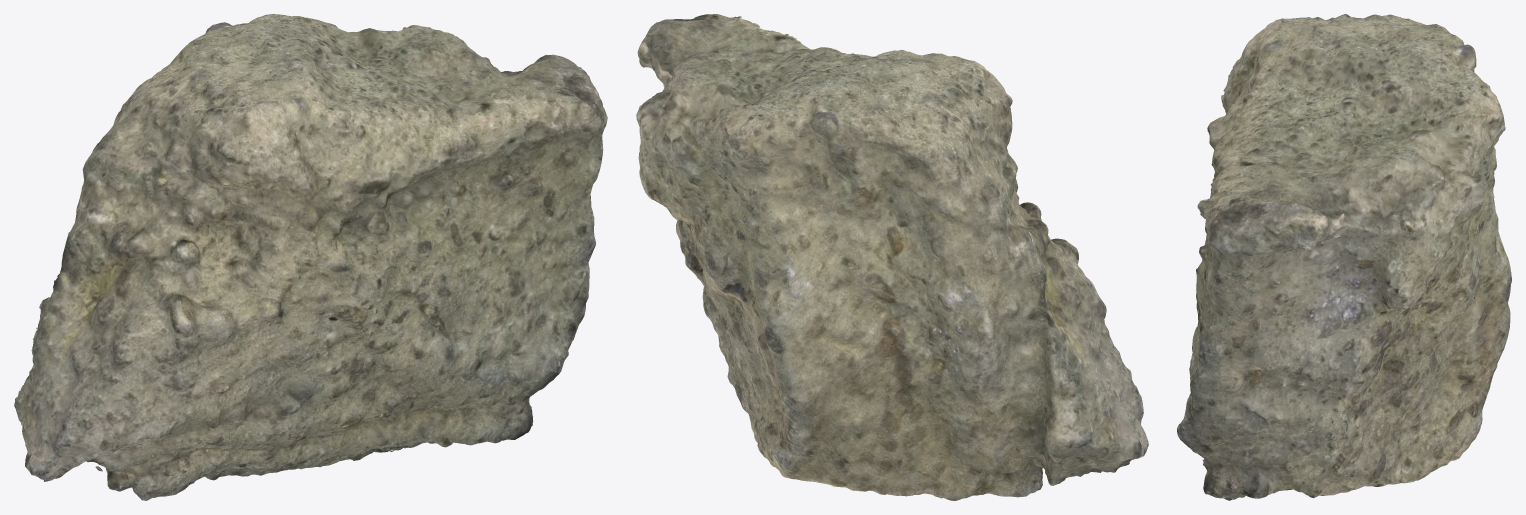
Rendered from kimberlite.glb.
The picture shows the model from 3 angles, left to right: view 1: azimuth 30°, elevation 25°; view 2: azimuth 150°, elevation 25°; view 3: azimuth 270°, elevation 25°; orthographic projection. The views are drawn at different scales.
Visible parts, largest first — view 1: Object_2; view 2: Object_2; view 3: Object_2.
Part boxes in pixels (box(x1,y1,x2,y2)): Object_2: box(14, 14, 607, 500); Object_2: box(636, 14, 1148, 500); Object_2: box(1177, 14, 1511, 500).
Bounding box in the file's own units: 2.81 × 2.03 × 1.53.
1 material, 1 textured.
